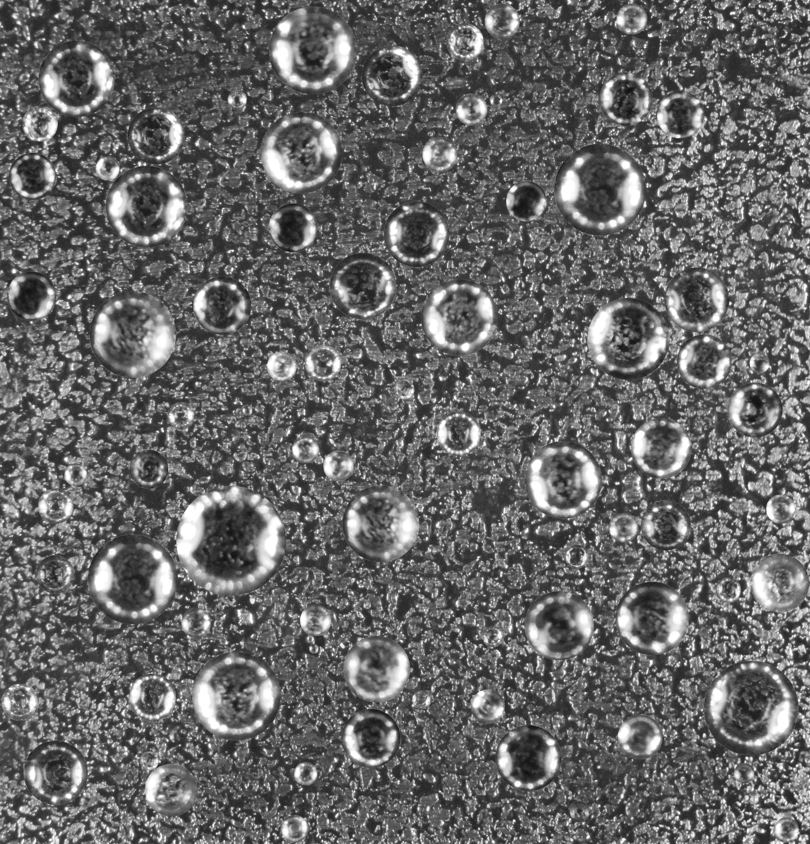Bubble: (176, 486, 285, 595), (704, 660, 798, 755), (554, 143, 645, 235), (87, 534, 177, 624), (192, 652, 280, 740), (269, 6, 356, 94), (89, 291, 175, 377), (105, 165, 187, 247), (587, 298, 669, 379), (260, 112, 342, 193), (342, 485, 419, 562), (524, 441, 601, 518), (421, 279, 497, 355), (38, 40, 114, 116), (615, 581, 688, 655), (524, 591, 593, 660), (329, 252, 396, 319), (343, 636, 409, 702), (495, 725, 561, 791), (383, 201, 449, 266), (664, 267, 729, 332), (23, 740, 87, 804), (361, 45, 422, 106), (631, 418, 691, 478), (750, 553, 809, 612), (341, 709, 400, 767), (193, 276, 251, 334), (127, 107, 184, 164), (727, 382, 782, 437), (677, 334, 731, 388), (599, 72, 652, 125), (145, 764, 197, 816), (641, 500, 690, 550), (7, 271, 56, 320), (268, 203, 317, 252), (656, 90, 704, 138), (8, 152, 55, 199), (129, 673, 175, 720), (618, 714, 662, 759), (436, 411, 480, 455), (506, 181, 546, 221), (129, 449, 168, 488), (36, 555, 74, 593), (446, 23, 483, 60), (1, 683, 38, 720), (304, 344, 341, 381), (484, 3, 519, 38), (22, 106, 57, 141), (38, 488, 73, 523), (422, 137, 457, 171), (471, 689, 504, 723), (455, 93, 487, 125), (300, 604, 331, 636), (616, 3, 647, 34), (323, 450, 353, 481), (267, 351, 296, 381), (766, 494, 795, 523), (609, 513, 638, 542), (181, 608, 210, 637), (292, 436, 319, 463), (167, 402, 194, 429), (281, 815, 308, 842), (715, 577, 741, 602), (773, 817, 798, 842), (95, 156, 119, 180), (565, 545, 588, 568), (294, 762, 317, 785), (64, 463, 86, 485), (482, 626, 503, 647), (568, 801, 589, 822), (749, 353, 769, 373), (394, 379, 414, 399), (734, 763, 754, 783), (139, 751, 158, 770), (412, 690, 431, 709), (227, 90, 246, 109), (489, 94, 502, 106), (242, 405, 252, 415), (258, 804, 268, 814), (309, 644, 318, 653)
